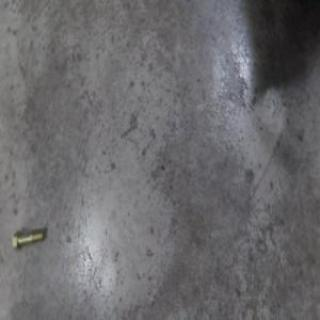Bolttrack_idkeyframe: (15, 225, 46, 251)
